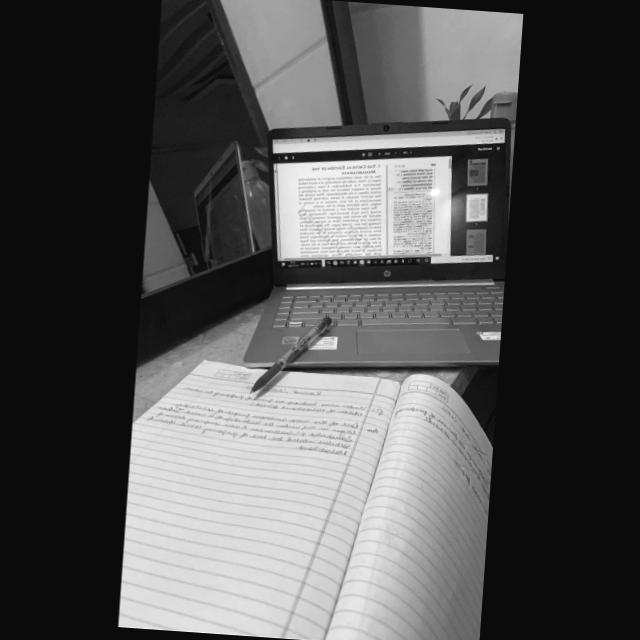laptop: (245, 118, 509, 367)
